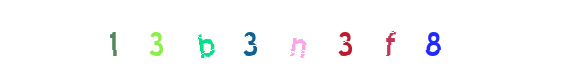1: (103, 0, 183, 80)
3: (122, 0, 202, 80), (211, 0, 291, 80), (288, 0, 368, 80)
8: (393, 0, 473, 80)
B: (165, 0, 245, 80)
F: (324, 0, 404, 80)
N: (250, 0, 330, 80)
